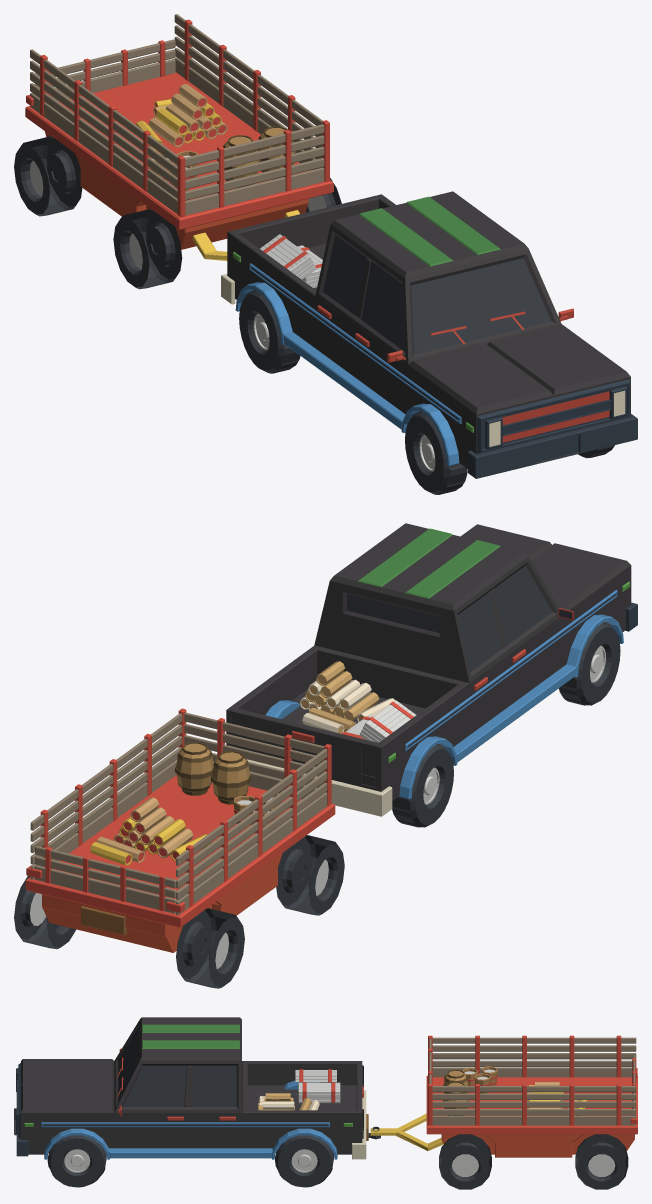
The model's file is car_a03_12598.gltf.
3 views of the same model, one above another, from view 1: azimuth 30°, elevation 25°; view 2: azimuth 150°, elevation 25°; view 3: azimuth 270°, elevation 25° (orthographic). The views are drawn at different scales.
Parts seen in each view (by area): view 1: body, wheel_23, wheel_19, wheel_11, wheel_5, wheel_9, wheel_3; view 2: body, wheel_23, wheel_19, wheel_5, wheel_11, wheel_3, wheel_9; view 3: body, wheel_17, wheel_21, wheel_0, wheel_6, wheel_1, wheel_7, wheel_12, wheel_14.
Boxes of the visible parts, bbox=[...] form: body: bbox=[20, 14, 637, 494]; wheel_23: bbox=[239, 295, 277, 370]; wheel_19: bbox=[405, 416, 443, 491]; wheel_11: bbox=[113, 218, 149, 287]; wheel_5: bbox=[14, 145, 49, 214]; wheel_9: bbox=[146, 211, 182, 279]; wheel_3: bbox=[46, 138, 82, 206]; body: bbox=[20, 523, 637, 988]; wheel_23: bbox=[415, 749, 453, 824]; wheel_19: bbox=[581, 627, 620, 703]; wheel_5: bbox=[209, 917, 244, 986]; wheel_11: bbox=[308, 844, 344, 913]; wheel_3: bbox=[176, 910, 211, 978]; wheel_9: bbox=[276, 837, 311, 905]; body: bbox=[14, 1017, 637, 1189]; wheel_17: bbox=[50, 1138, 103, 1186]; wheel_21: bbox=[278, 1138, 331, 1186]; wheel_0: bbox=[577, 1145, 626, 1189]; wheel_6: bbox=[440, 1145, 489, 1189]; wheel_1: bbox=[577, 1134, 626, 1161]; wheel_7: bbox=[440, 1134, 489, 1161]; wheel_12: bbox=[588, 1154, 615, 1176]; wheel_14: bbox=[451, 1154, 478, 1176].
Size of the model in its own units: 2.51 by 2.23 by 10.2.
1 material, 1 textured.
